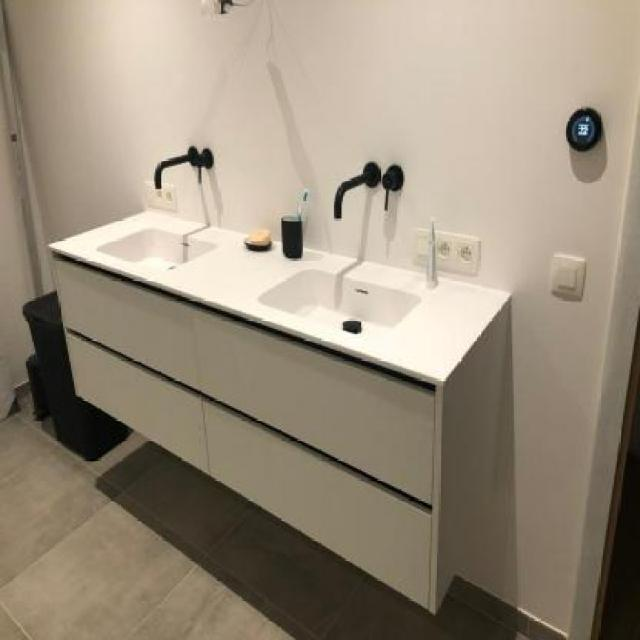Floor: (0, 394, 530, 639)
